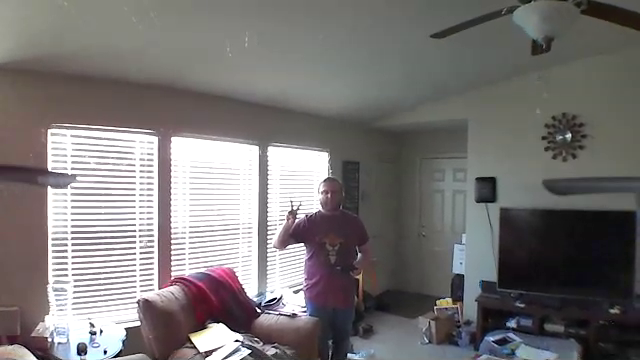peace: (285, 197, 304, 227)
